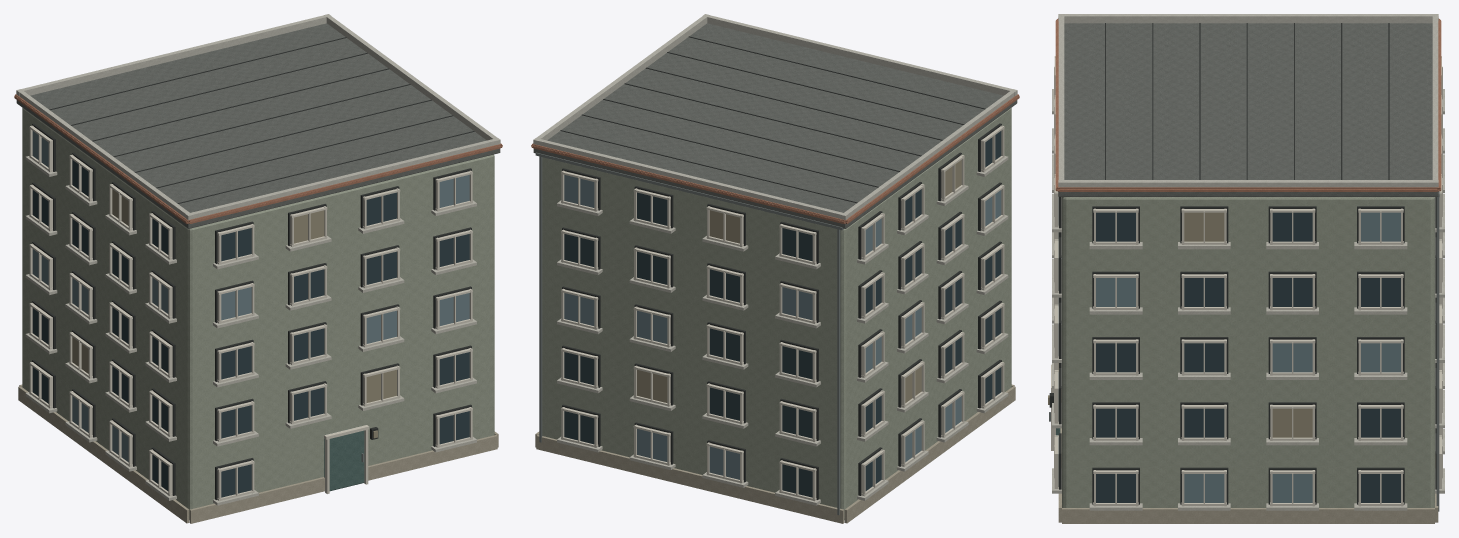
File: RES_MID_2x2_002.glb
The picture shows the model from 3 angles, left to right: view 1: azimuth 30°, elevation 25°; view 2: azimuth 150°, elevation 25°; view 3: azimuth 270°, elevation 25°; orthographic projection. The views are drawn at different scales.
Visible parts, largest first — view 1: RES_MID_2x2_002_Visual; view 2: RES_MID_2x2_002_Visual; view 3: RES_MID_2x2_002_Visual.
Boxes of the visible parts, x1=… form: RES_MID_2x2_002_Visual: x1=14, y1=14, x2=502, y2=523; RES_MID_2x2_002_Visual: x1=531, y1=14, x2=1019, y2=523; RES_MID_2x2_002_Visual: x1=1048, y1=14, x2=1444, y2=523.
Size of what is drawn, in the model's own units: 3.31 by 3.03 by 3.19.
Materials: 12 (6 with a texture image).
